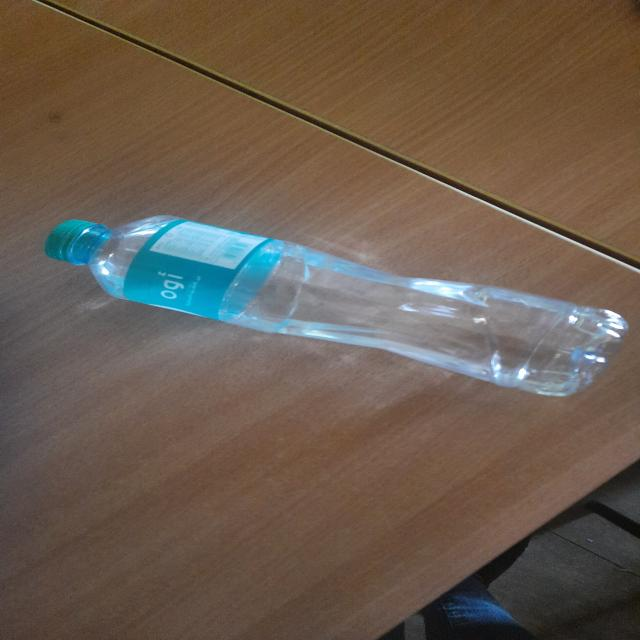plastic: (32, 183, 617, 442)
